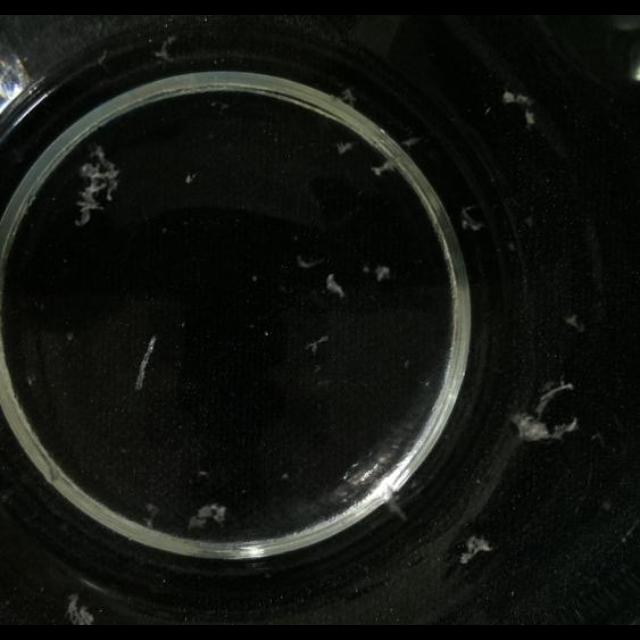Fibre: (74, 146, 122, 224), (535, 381, 575, 421), (134, 335, 158, 391), (502, 90, 536, 128), (457, 534, 493, 566), (188, 503, 226, 532), (64, 594, 96, 624), (459, 205, 485, 232), (152, 36, 178, 62), (326, 273, 346, 299), (142, 502, 160, 528), (372, 158, 398, 176), (296, 254, 326, 268), (306, 336, 328, 354), (564, 314, 584, 332), (340, 89, 358, 107), (374, 266, 391, 282), (401, 136, 422, 148), (336, 141, 354, 155), (97, 50, 109, 66), (185, 173, 197, 184)
